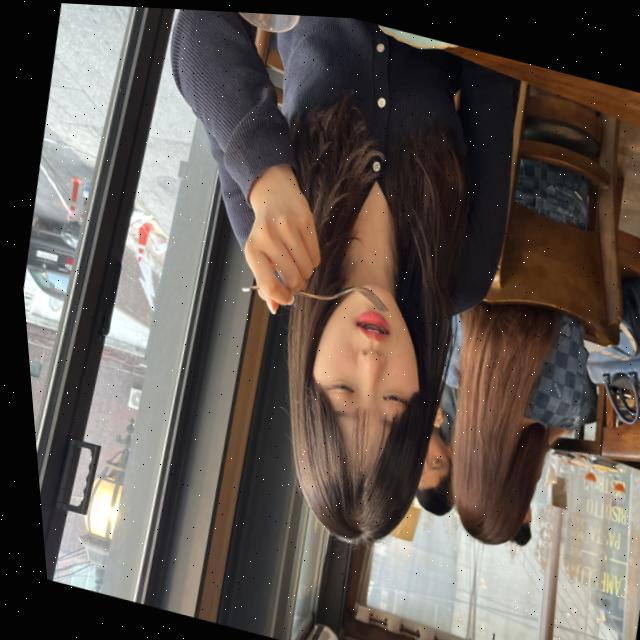eating-person: (68, 3, 562, 586)
